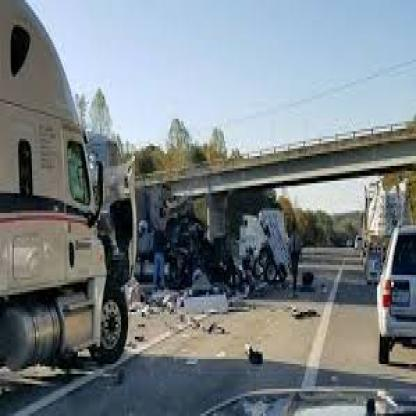accident: (243, 198, 292, 297)
